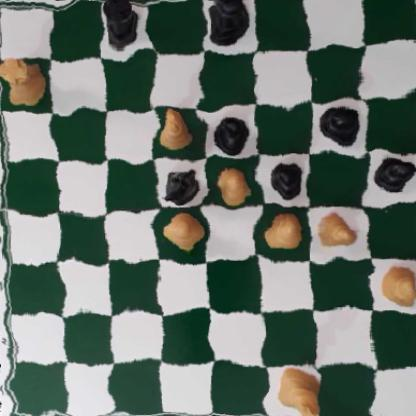black-king: (200, 0, 253, 50)
black-knight: (159, 163, 199, 204)
black-pawn: (317, 103, 360, 148), (371, 155, 415, 198), (209, 116, 250, 156), (269, 159, 305, 199)
black-rook: (96, 0, 145, 44)
white-bishop: (152, 106, 196, 155)
white-king: (277, 368, 319, 416)
white-pawn: (209, 163, 257, 202), (261, 209, 301, 254), (314, 212, 354, 256), (383, 263, 416, 305), (165, 213, 201, 251)
white-rook: (0, 58, 47, 105)
